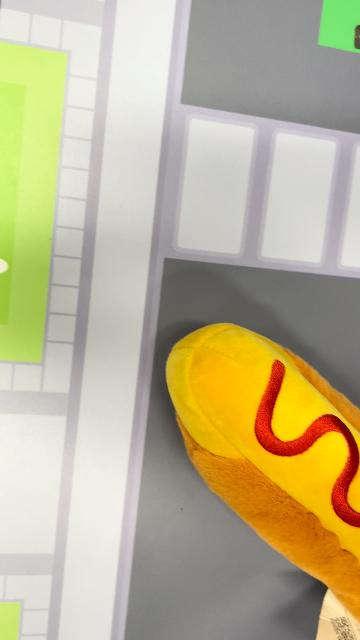hotdog: (164, 321, 360, 624)
